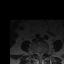CCS_normal: (39, 51, 41, 59)
LFS_stenosis: (43, 50, 45, 56)
LLS_normal: (41, 51, 43, 58)
RFS_normal: (35, 50, 37, 56)
RLS_normal: (37, 51, 39, 58)
